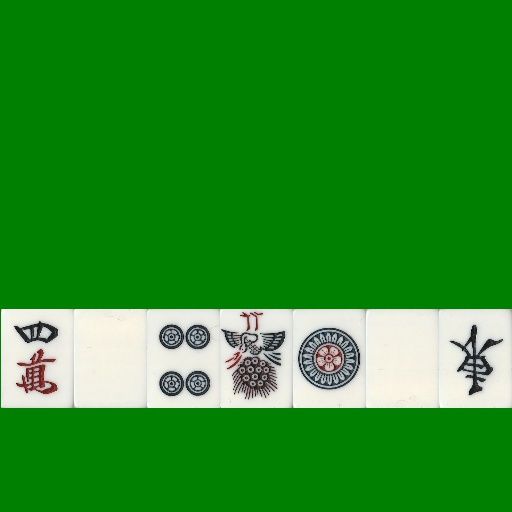1p: (293, 309, 366, 408)
1s: (220, 309, 293, 408)
4m: (1, 309, 74, 408)
4p: (147, 309, 220, 408)
east: (439, 309, 512, 408)
white: (74, 309, 147, 408), (366, 309, 439, 408)
